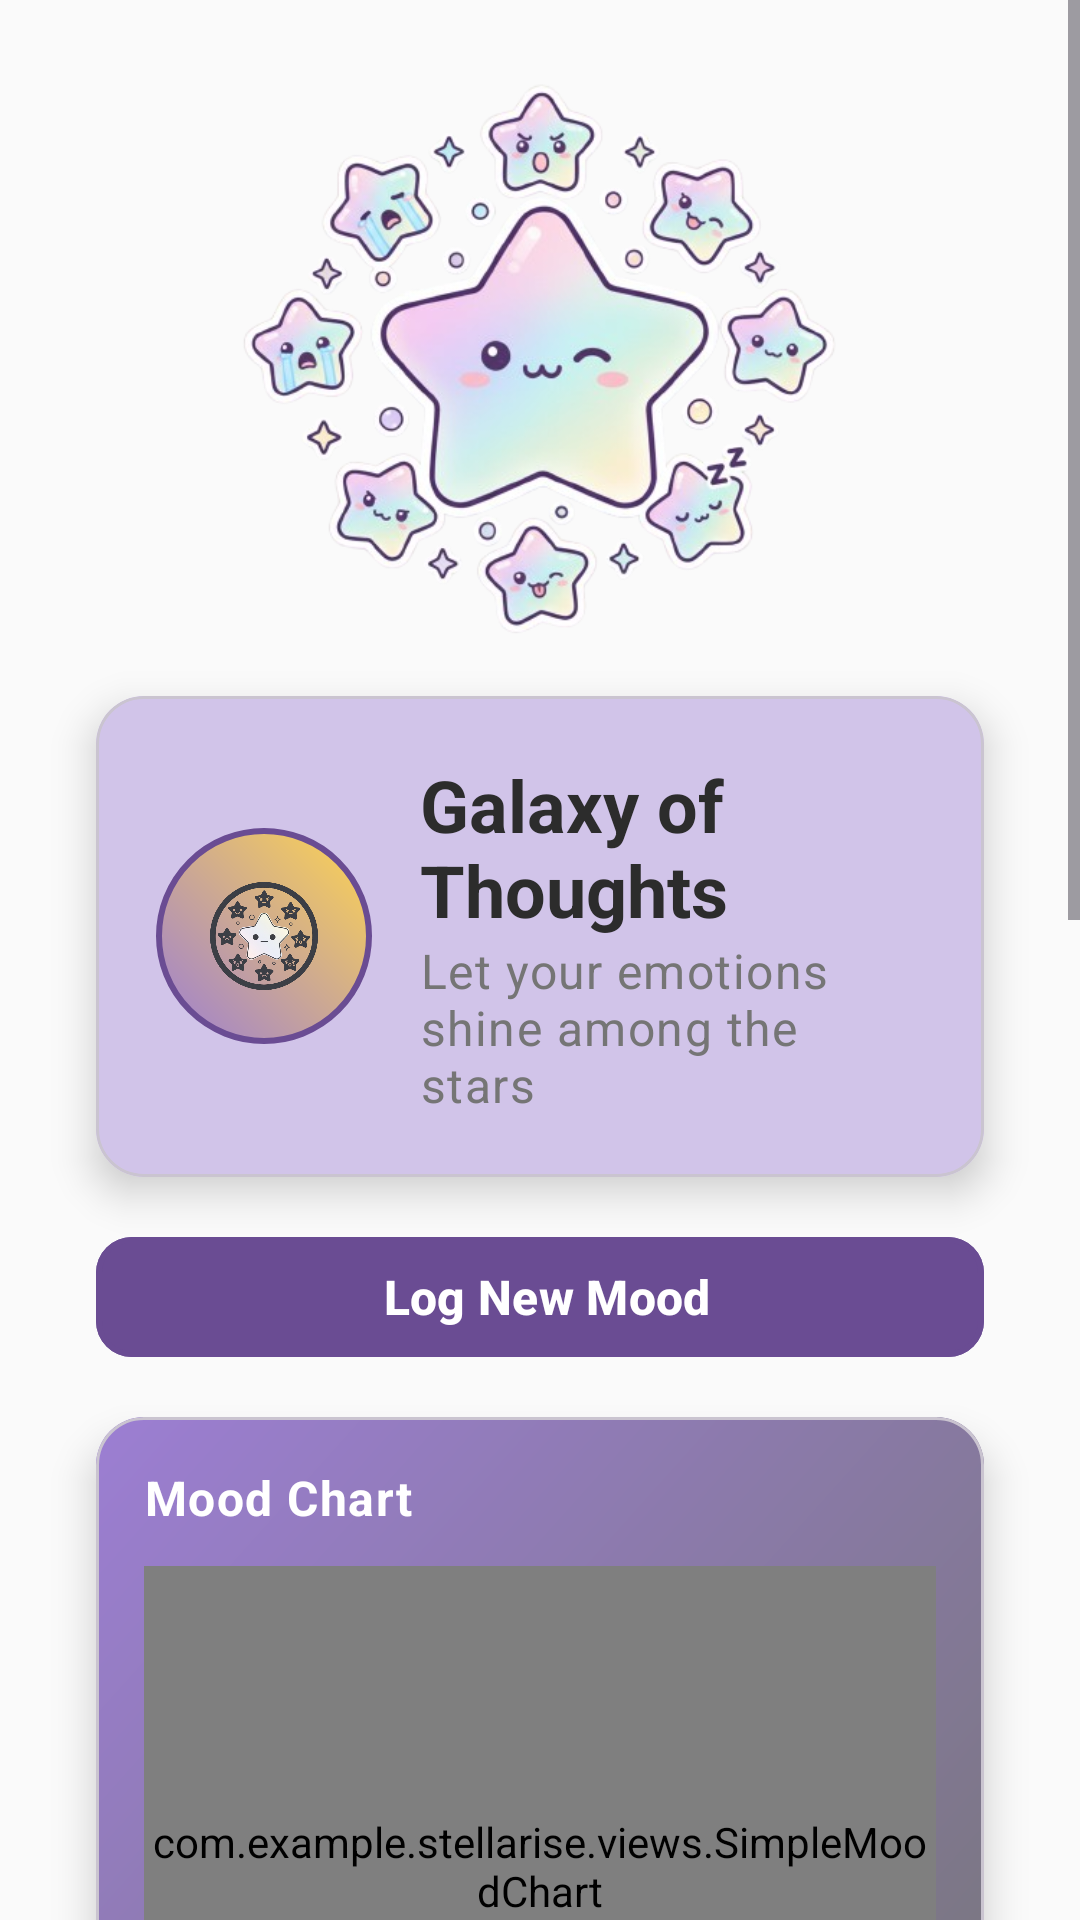

Icons on this 1080×1920 Android screen, each with its box as (x1, y1, x2, y2):
Mood Icon: (156, 828, 372, 1044)
